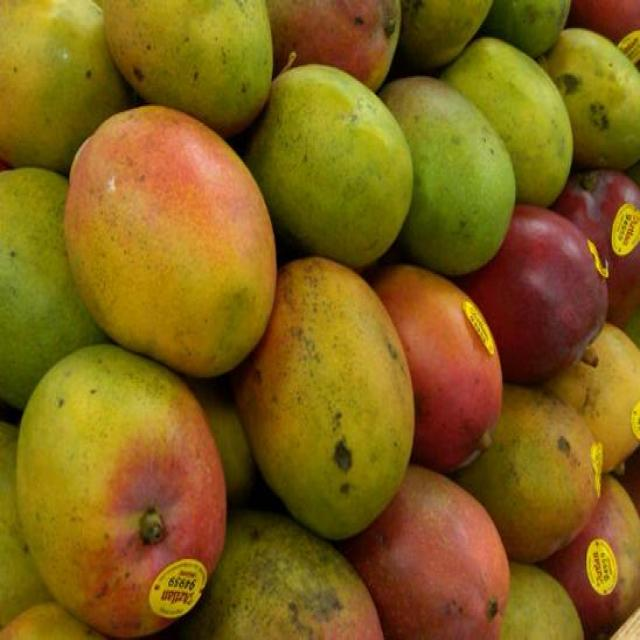mango: (17, 328, 227, 631), (64, 103, 278, 375), (257, 252, 412, 549), (361, 456, 528, 640), (251, 70, 413, 258)
